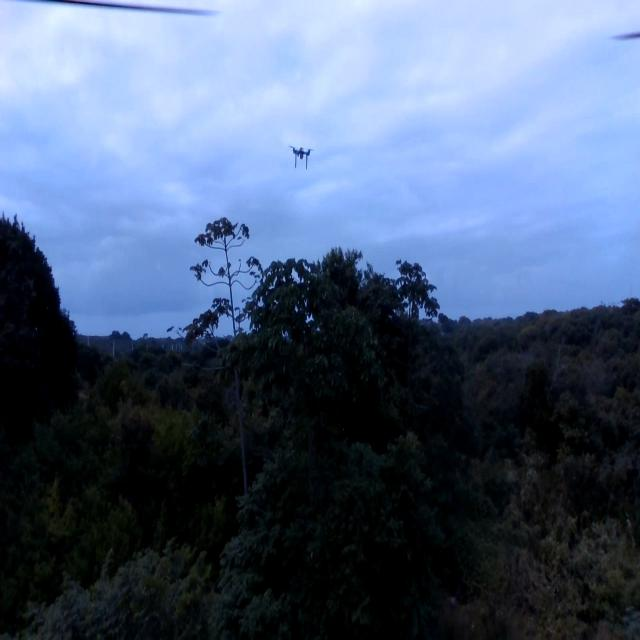-uav-: (286, 136, 321, 182)
